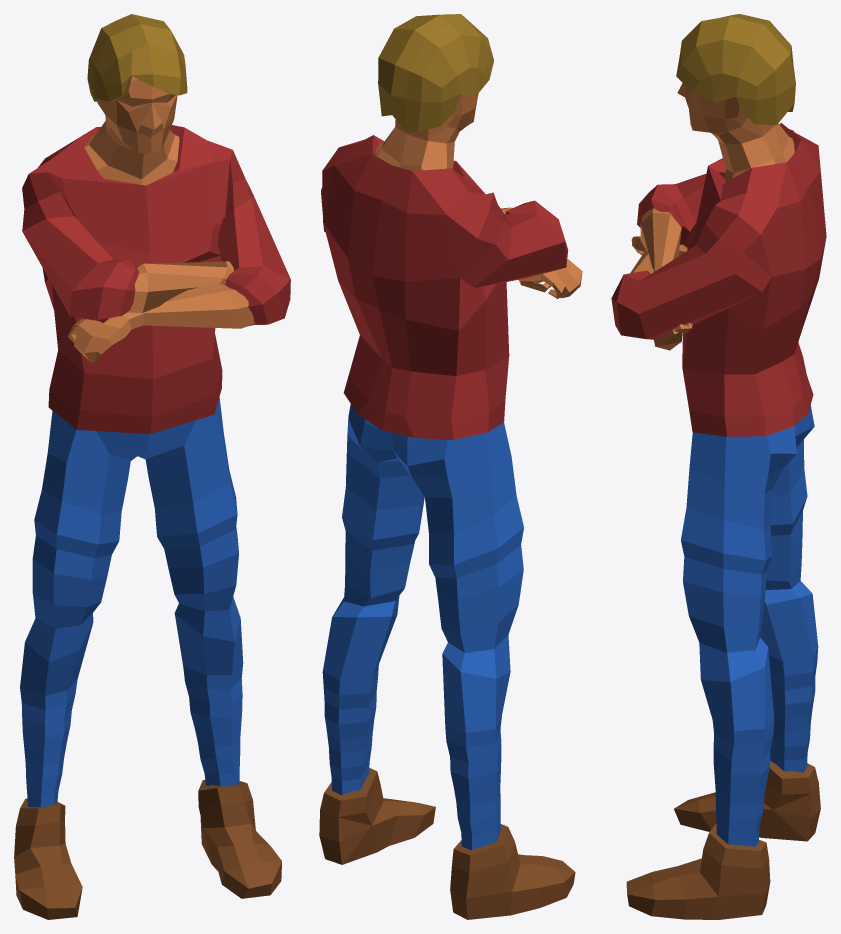
3 renders of one model, left to right at view 1: azimuth 30°, elevation 25°; view 2: azimuth 150°, elevation 25°; view 3: azimuth 270°, elevation 25°, orthographic.
Visible parts, largest first — view 1: male_Circle.008, male.001_Circle.001, male.003_Circle.003, male.004_Circle.004; view 2: male_Circle.008, male.001_Circle.001, male.003_Circle.003, male.004_Circle.004; view 3: male_Circle.008, male.001_Circle.001, male.003_Circle.003, male.004_Circle.004.
Boxes of the visible parts, bbox=[...] form: male_Circle.008: bbox=[20, 76, 255, 807]; male.001_Circle.001: bbox=[22, 125, 290, 434]; male.003_Circle.003: bbox=[14, 779, 281, 919]; male.004_Circle.004: bbox=[87, 14, 187, 101]; male_Circle.008: bbox=[322, 93, 582, 850]; male.001_Circle.001: bbox=[321, 135, 568, 439]; male.003_Circle.003: bbox=[319, 768, 575, 919]; male.004_Circle.004: bbox=[378, 14, 493, 131]; male_Circle.008: bbox=[630, 83, 818, 846]; male.001_Circle.001: bbox=[611, 123, 826, 436]; male.003_Circle.003: bbox=[626, 761, 820, 919]; male.004_Circle.004: bbox=[676, 14, 795, 125].
Bounding box in the file's own units: 1.03 × 3.52 × 0.8072.
